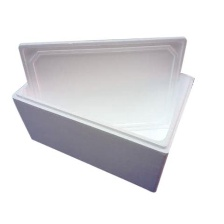foam_box: (8, 29, 198, 196)
